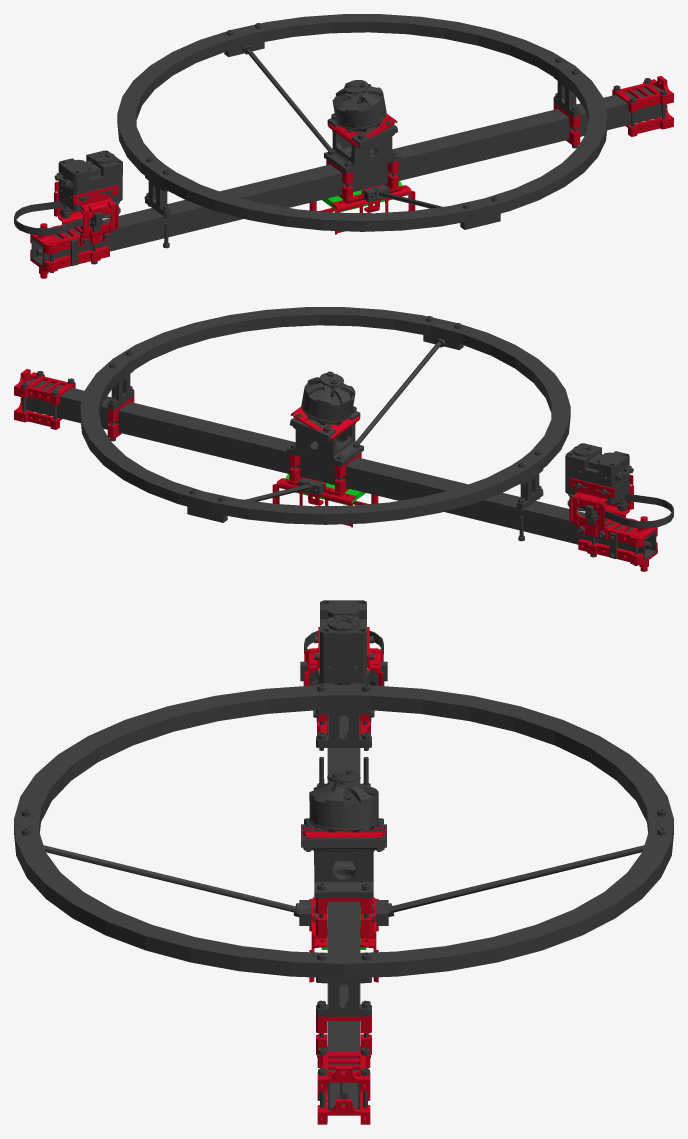
File: tilt_10deg_link4.dae
3 views of the same model, one above another, from view 1: azimuth 30°, elevation 25°; view 2: azimuth 150°, elevation 25°; view 3: azimuth 270°, elevation 25° (orthographic). The views are drawn at different scales.
Parts seen in each view (by area): view 1: tilt_10deg_link4_black_part, tilt_link4_red_part; view 2: tilt_10deg_link4_black_part, tilt_link4_red_part; view 3: tilt_10deg_link4_black_part, tilt_link4_red_part.
Part boxes in pixels (x1,y1,x2,y2): tilt_10deg_link4_black_part: [14, 14, 666, 272]; tilt_link4_red_part: [30, 76, 673, 278]; tilt_10deg_link4_black_part: [21, 307, 673, 565]; tilt_link4_red_part: [14, 369, 657, 571]; tilt_10deg_link4_black_part: [14, 600, 673, 1109]; tilt_link4_red_part: [302, 627, 385, 1124].
Size of the model in its own units: 0.6083 by 0.3997 by 0.1211.
